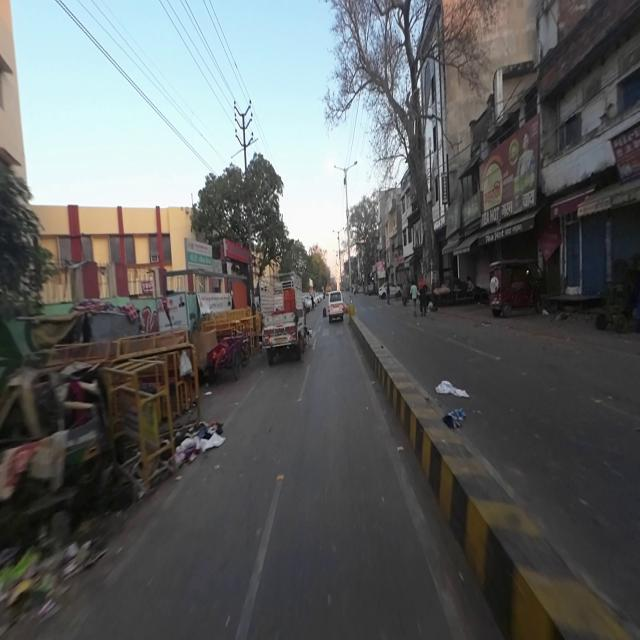Garbage: (3, 528, 90, 613), (178, 411, 222, 459)
